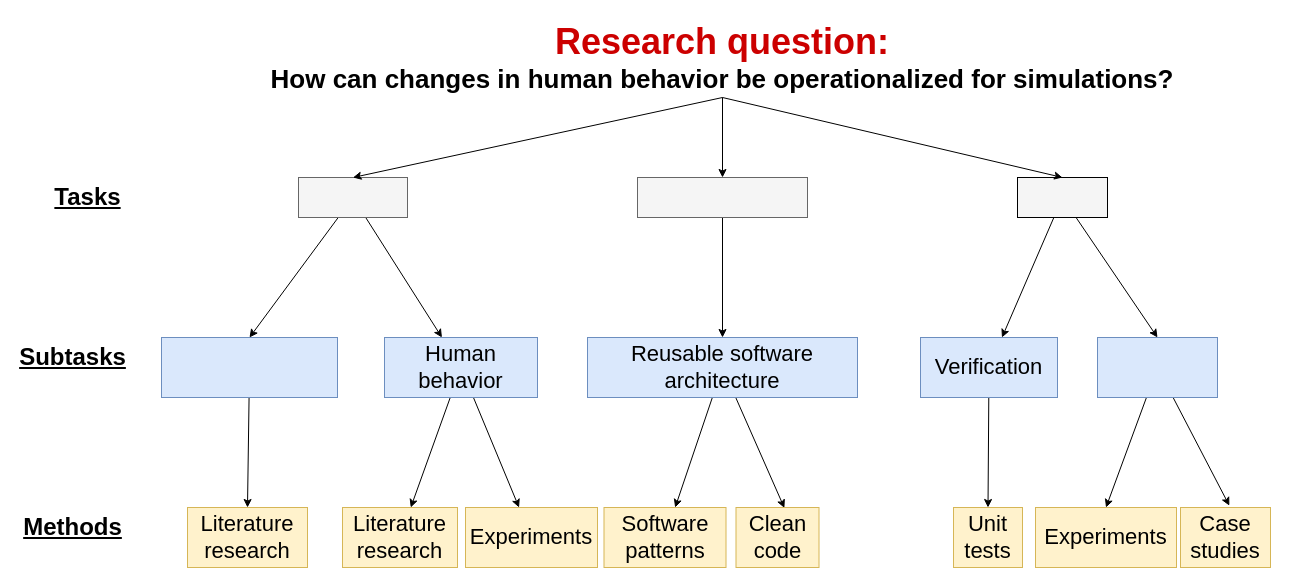
Some shapes in this 1294 by 585 pixel diagram are drawn without their labels. Here are the shapes that lost their labels. From the top down, the centre of each, then its label:
the point at 353,197: Modeling
the point at 722,197: Implementation
the point at 1062,197: Testing
the point at 249,367: Pedestrian streams
the point at 1157,367: Validation
